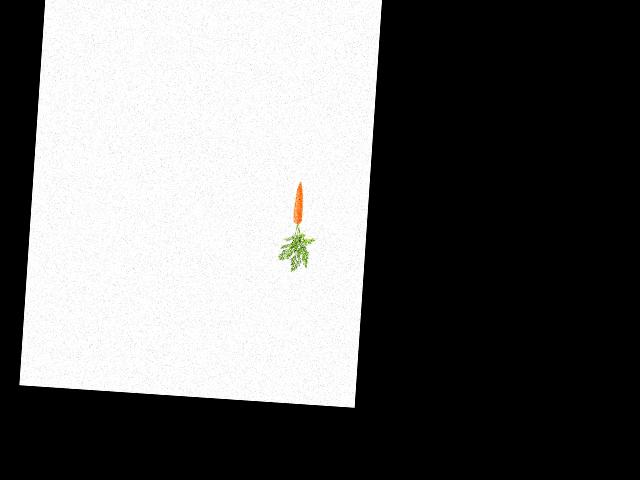carrot: (292, 179, 307, 225)
